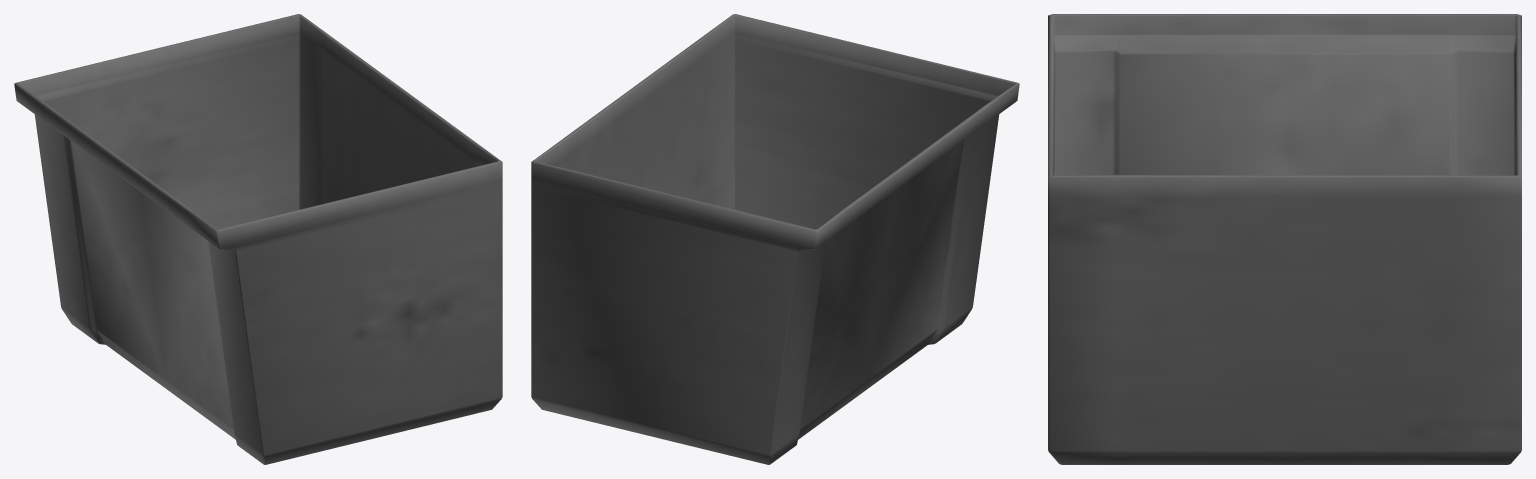
File: Container_Base.fbx
The picture shows the model from 3 angles, left to right: view 1: azimuth 30°, elevation 25°; view 2: azimuth 150°, elevation 25°; view 3: azimuth 270°, elevation 25°; orthographic projection. The views are drawn at different scales.
Parts seen in each view (by area): view 1: Container_Base; view 2: Container_Base; view 3: Container_Base.
Boxes of the visible parts, x1=… form: Container_Base: x1=14, y1=14, x2=502, y2=464; Container_Base: x1=531, y1=14, x2=1019, y2=464; Container_Base: x1=1048, y1=14, x2=1521, y2=464.
Size of the model in its own units: 130 by 109 by 160.
